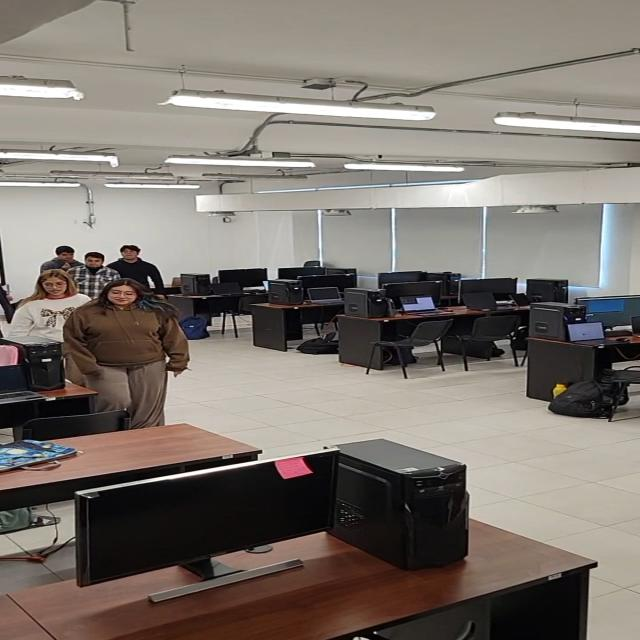Persona: (74, 281, 177, 429), (13, 270, 70, 350), (75, 248, 106, 299)
